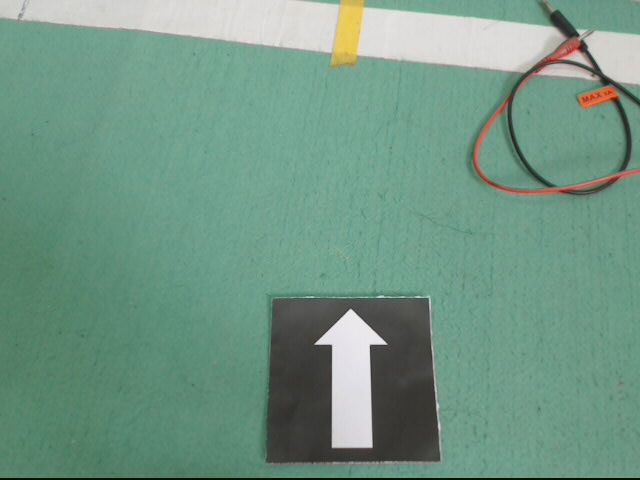straight: (268, 299, 442, 451)
